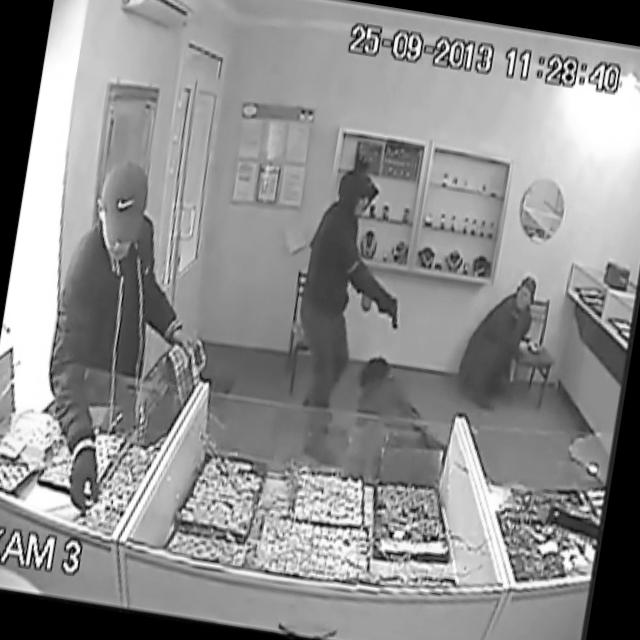gun: (356, 262, 412, 340)
person: (74, 184, 180, 355), (470, 272, 542, 358)
person with a gun: (277, 159, 421, 424)
